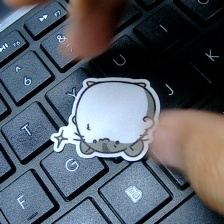mouse: (47, 73, 165, 163)
